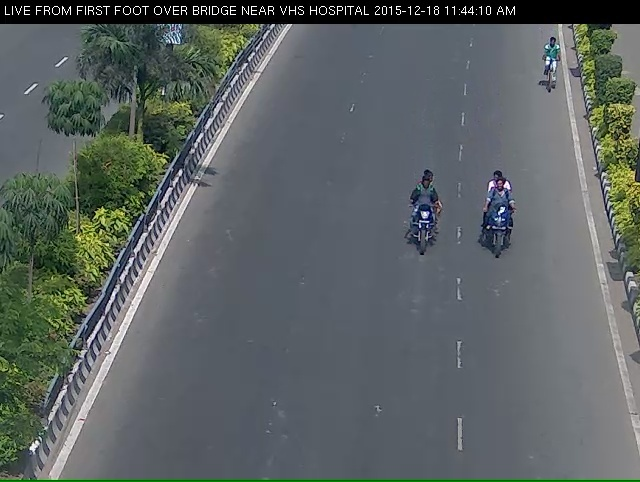Person: (401, 180, 452, 274), (481, 181, 522, 279)
